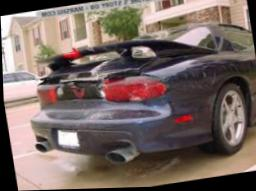Light: (98, 69, 169, 106)
